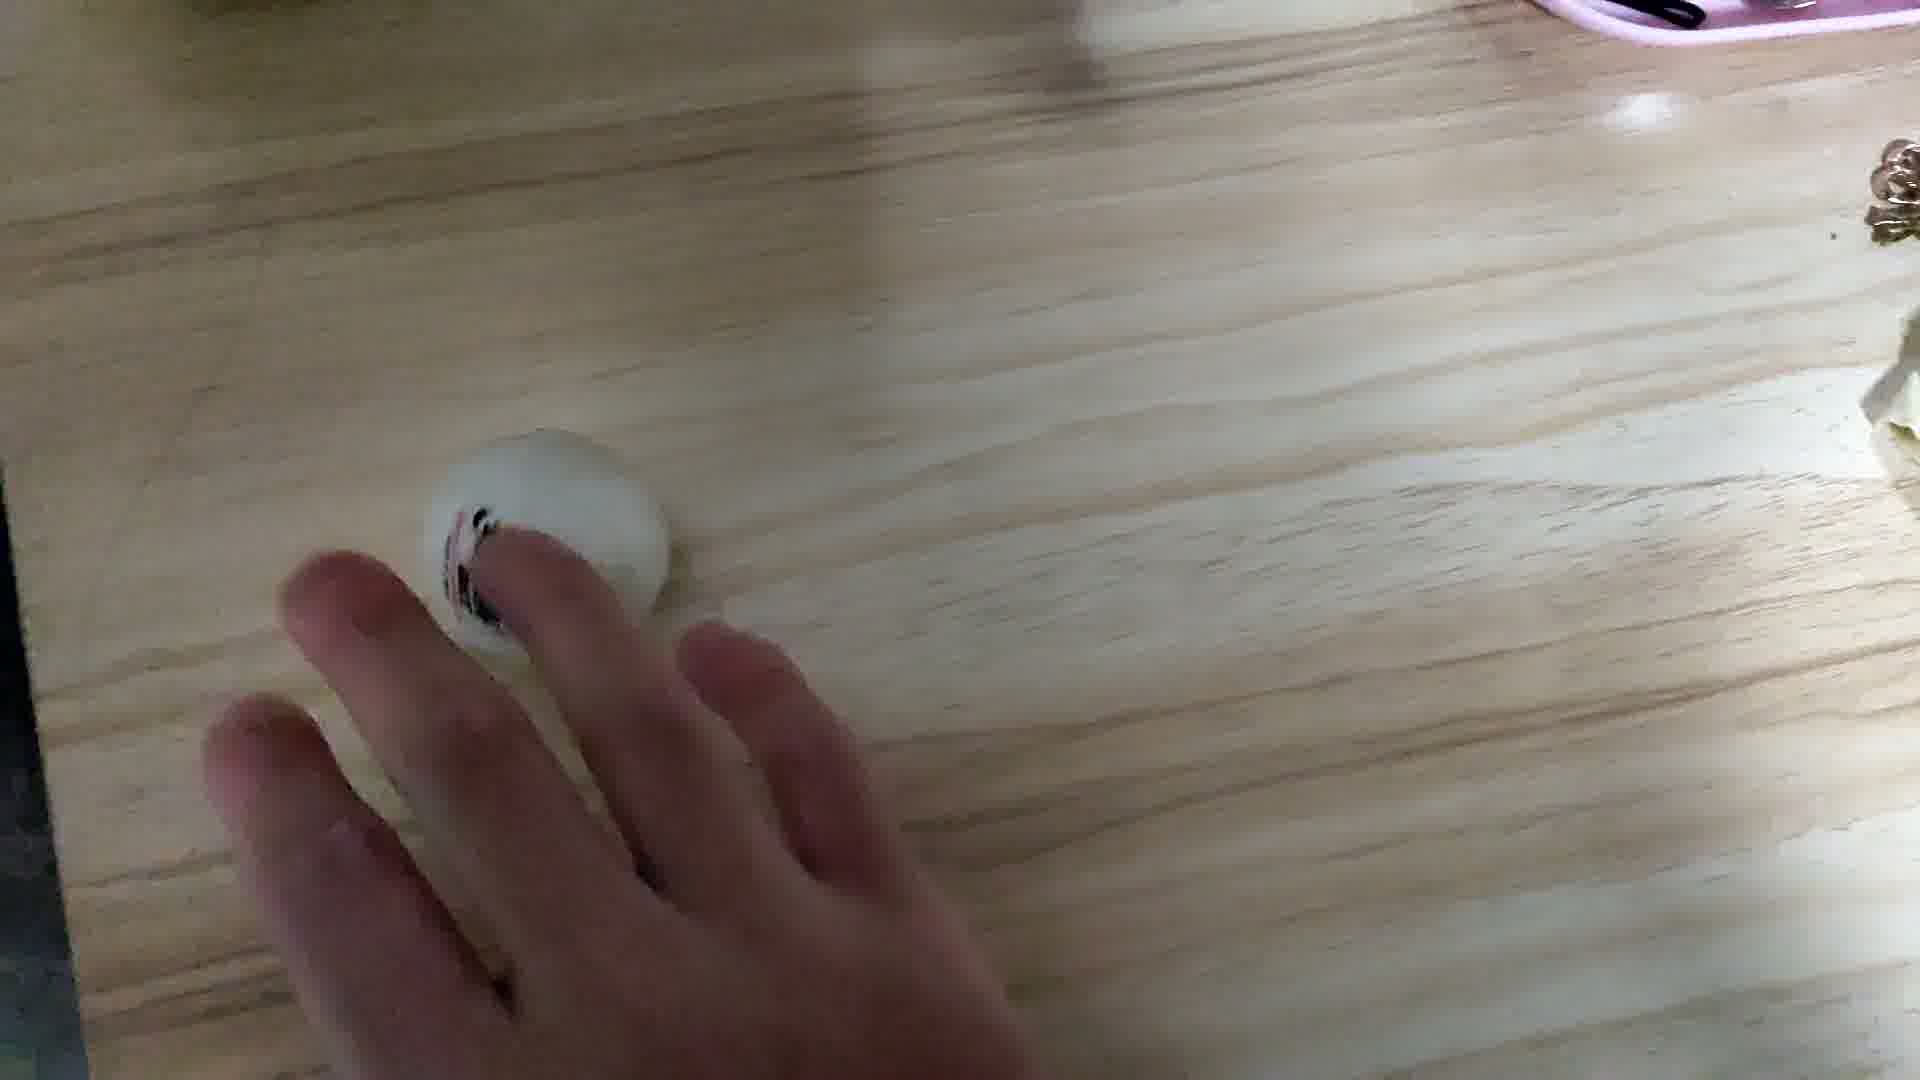Ball: (425, 427, 665, 666)
